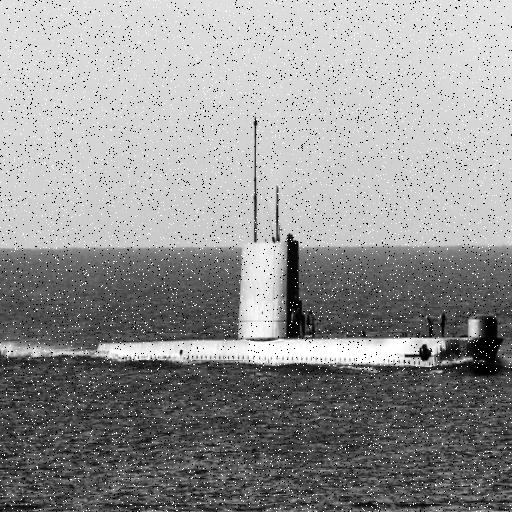submarine: (61, 109, 502, 358)
